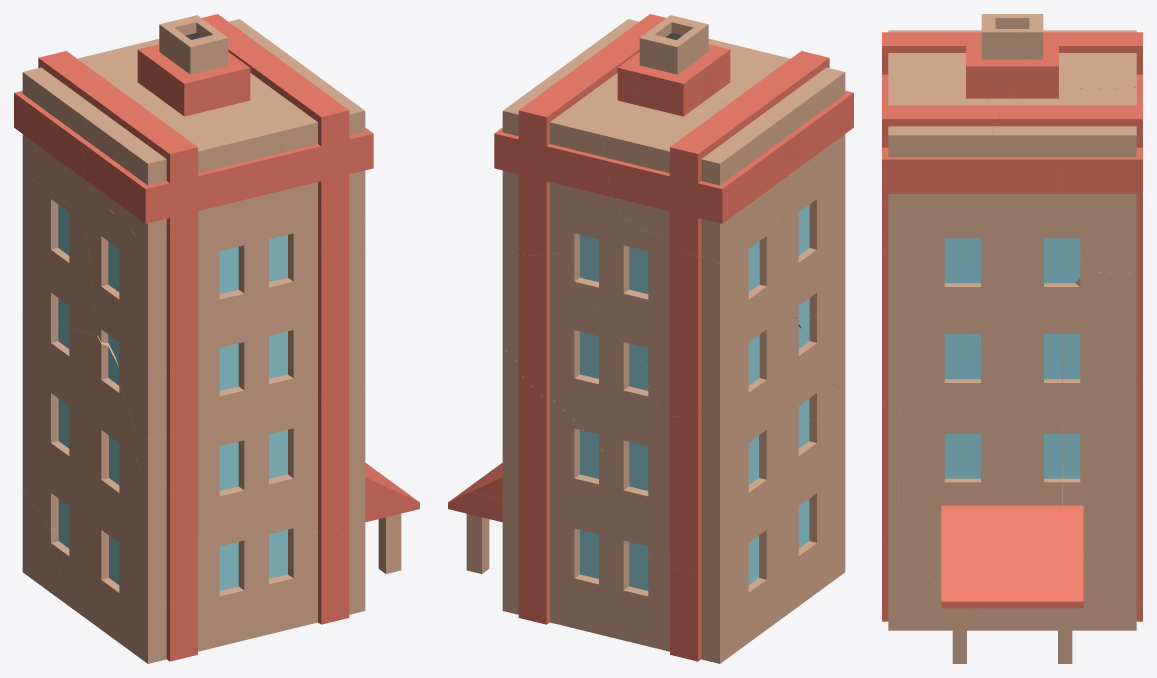
The model's file is BigHouse 4.1 Fractured.fbx.
3 renders of one model, left to right at view 1: azimuth 30°, elevation 25°; view 2: azimuth 150°, elevation 25°; view 3: azimuth 270°, elevation 25°, orthographic.
Parts seen in each view (by area): view 1: BigHouse_Type4_1_Breaking_cell.006, BigHouse_Type4_1_Breaking_cell.018, BigHouse_Type4_1_Breaking_cell.012, BigHouse_Type4_1_Breaking_cell.016, BigHouse_Type4_1_Breaking_cell.019, BigHouse_Type4_1_Breaking_cell.010, BigHouse_Type4_1_Breaking_cell.003, BigHouse_Type4_1_Breaking_cell.017, BigHouse_Type4_1_Breaking_cell.014, BigHouse_Type4_1_Breaking_cell.015, BigHouse_Type4_1_Breaking_cell.001, BigHouse_Type4_1_Breaking_cell.007 (+4 smaller); view 2: BigHouse_Type4_1_Breaking_cell.019, BigHouse_Type4_1_Breaking_cell.010, BigHouse_Type4_1_Breaking_cell.001, BigHouse_Type4_1_Breaking_cell.008, BigHouse_Type4_1_Breaking_cell.013, BigHouse_Type4_1_Breaking_cell.004, BigHouse_Type4_1_Breaking_cell.002, BigHouse_Type4_1_Breaking_cell.012, BigHouse_Type4_1_Breaking_cell.015, BigHouse_Type4_1_Breaking_cell.006, BigHouse_Type4_1_Breaking_cell.005, BigHouse_Type4_1_Breaking_cell.011 (+5 smaller); view 3: BigHouse_Type4_1_Breaking_cell.011, BigHouse_Type4_1_Breaking_cell.009, BigHouse_Type4_1_Breaking_cell.002, BigHouse_Type4_1_Breaking_cell.008, BigHouse_Type4_1_Breaking_cell, BigHouse_Type4_1_Breaking_cell.014, BigHouse_Type4_1_Breaking_cell.012, BigHouse_Type4_1_Breaking_cell.018, BigHouse_Type4_1_Breaking_cell.010, BigHouse_Type4_1_Breaking_cell.013, BigHouse_Type4_1_Breaking_cell.017, BigHouse_Type4_1_Breaking_cell.016.
Part boxes in pixels (left/top/right/bottom): BigHouse_Type4_1_Breaking_cell.006: left=84, top=151, right=337, bottom=383; BigHouse_Type4_1_Breaking_cell.018: left=115, top=236, right=365, bottom=439; BigHouse_Type4_1_Breaking_cell.012: left=82, top=24, right=283, bottom=246; BigHouse_Type4_1_Breaking_cell.016: left=135, top=387, right=365, bottom=534; BigHouse_Type4_1_Breaking_cell.019: left=22, top=316, right=135, bottom=530; BigHouse_Type4_1_Breaking_cell.010: left=14, top=15, right=209, bottom=216; BigHouse_Type4_1_Breaking_cell.003: left=142, top=472, right=243, bottom=647; BigHouse_Type4_1_Breaking_cell.017: left=241, top=529, right=365, bottom=640; BigHouse_Type4_1_Breaking_cell.014: left=228, top=52, right=373, bottom=230; BigHouse_Type4_1_Breaking_cell.015: left=55, top=457, right=142, bottom=641; BigHouse_Type4_1_Breaking_cell.001: left=22, top=172, right=97, bottom=335; BigHouse_Type4_1_Breaking_cell.007: left=118, top=584, right=215, bottom=663; BigHouse_Type4_1_Breaking_cell.019: left=591, top=318, right=832, bottom=581; BigHouse_Type4_1_Breaking_cell.010: left=601, top=29, right=792, bottom=263; BigHouse_Type4_1_Breaking_cell.001: left=636, top=218, right=795, bottom=416; BigHouse_Type4_1_Breaking_cell.008: left=494, top=52, right=639, bottom=255; BigHouse_Type4_1_Breaking_cell.013: left=502, top=251, right=663, bottom=456; BigHouse_Type4_1_Breaking_cell.004: left=505, top=538, right=761, bottom=663; BigHouse_Type4_1_Breaking_cell.002: left=471, top=347, right=608, bottom=611; BigHouse_Type4_1_Breaking_cell.012: left=652, top=15, right=853, bottom=182; BigHouse_Type4_1_Breaking_cell.015: left=748, top=384, right=839, bottom=632; BigHouse_Type4_1_Breaking_cell.006: left=782, top=156, right=845, bottom=322; BigHouse_Type4_1_Breaking_cell.005: left=557, top=216, right=641, bottom=357; BigHouse_Type4_1_Breaking_cell.011: left=448, top=463, right=502, bottom=573; BigHouse_Type4_1_Breaking_cell.011: left=898, top=385, right=1133, bottom=663; BigHouse_Type4_1_Breaking_cell.009: left=882, top=80, right=1090, bottom=343; BigHouse_Type4_1_Breaking_cell.002: left=1062, top=337, right=1142, bottom=630; BigHouse_Type4_1_Breaking_cell.008: left=1007, top=61, right=1142, bottom=273; BigHouse_Type4_1_Breaking_cell: left=944, top=325, right=1062, bottom=513; BigHouse_Type4_1_Breaking_cell.014: left=882, top=66, right=1009, bottom=239; BigHouse_Type4_1_Breaking_cell.012: left=882, top=14, right=1018, bottom=105; BigHouse_Type4_1_Breaking_cell.018: left=882, top=250, right=979, bottom=408; BigHouse_Type4_1_Breaking_cell.010: left=1015, top=14, right=1142, bottom=105; BigHouse_Type4_1_Breaking_cell.013: left=1051, top=261, right=1142, bottom=377; BigHouse_Type4_1_Breaking_cell.017: left=882, top=539, right=996, bottom=630; BigHouse_Type4_1_Breaking_cell.016: left=882, top=400, right=899, bottom=554.
Size of the model in its own units: 924 by 1627 by 693.
